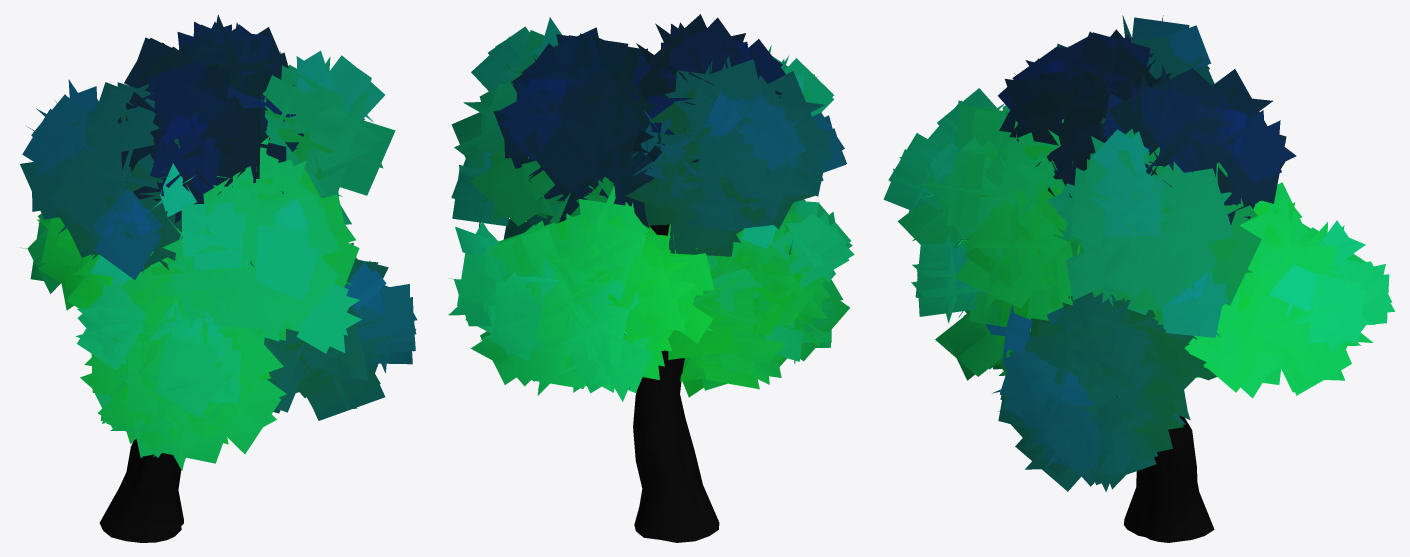
Rendered from OakTree_LOD2.fbx.
3 views of the same model, side by side, from view 1: azimuth 30°, elevation 25°; view 2: azimuth 150°, elevation 25°; view 3: azimuth 270°, elevation 25° (orthographic). The views are drawn at different scales.
Parts seen in each view (by area): view 1: Tree_0Shape; view 2: Tree_0Shape; view 3: Tree_0Shape.
Part boxes in pixels (left/top/right/bottom): Tree_0Shape: left=20, top=14, right=417, bottom=542; Tree_0Shape: left=448, top=14, right=854, bottom=542; Tree_0Shape: left=883, top=15, right=1395, bottom=542.
Size of the model in its own units: 339 by 445 by 413.
